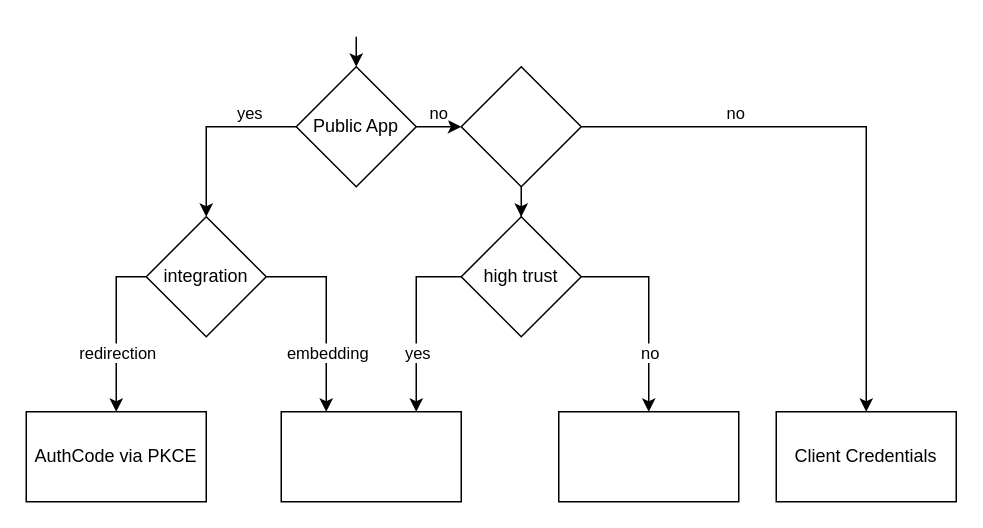
The diagram is 983 pixels wide and 528 high, and some of its shapes have lost their labels. Each missing label, with the box of its shape:
Auth Code: (557, 410, 739, 502)
end user: (460, 65, 581, 187)
Interaction Code: (280, 410, 461, 502)
